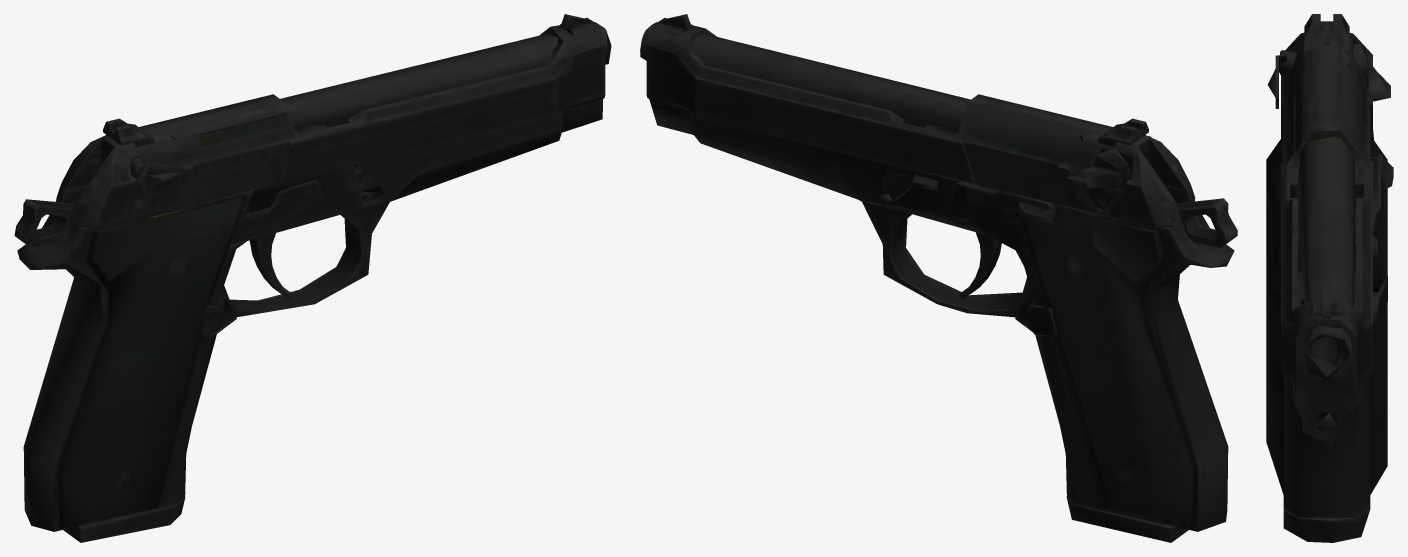
3 views of the same model, side by side, from view 1: azimuth 30°, elevation 25°; view 2: azimuth 150°, elevation 25°; view 3: azimuth 270°, elevation 25° (orthographic). The views are drawn at different scales.
Visible parts, largest first — view 1: base, slide, mag, hammer, trigger; view 2: base, slide, stopper, hammer, mag, trigger; view 3: base, slide, mag, stopper.
Part boxes in pixels (<box>): base: <box>17,22,611,531</box>; slide: <box>56,14,605,228</box>; mag: <box>63,497,185,542</box>; hammer: <box>14,199,75,247</box>; trigger: <box>249,233,292,298</box>; base: <box>640,22,1234,531</box>; slide: <box>646,14,1190,228</box>; stopper: <box>950,182,1056,225</box>; hammer: <box>1176,198,1237,247</box>; mag: <box>1066,496,1188,542</box>; trigger: <box>959,232,1001,298</box>; base: <box>1266,130,1387,517</box>; slide: <box>1267,14,1390,446</box>; mag: <box>1283,508,1370,542</box>; stopper: <box>1370,153,1393,237</box>.
Size of the model in its own units: 0.2487 by 0.162 by 0.0381.
1 material, 1 textured.
